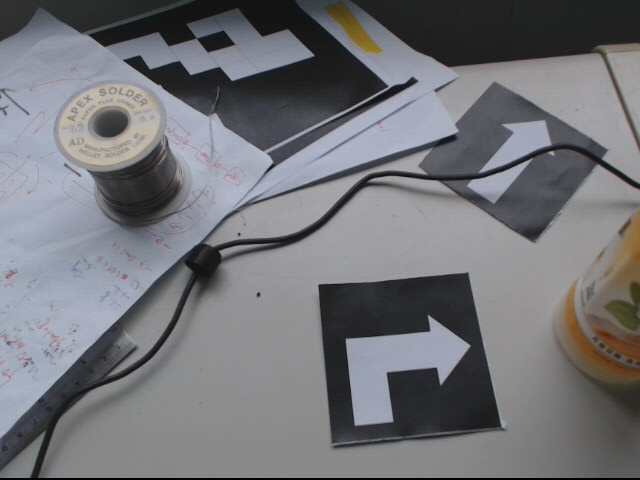right: (318, 271, 509, 447)
